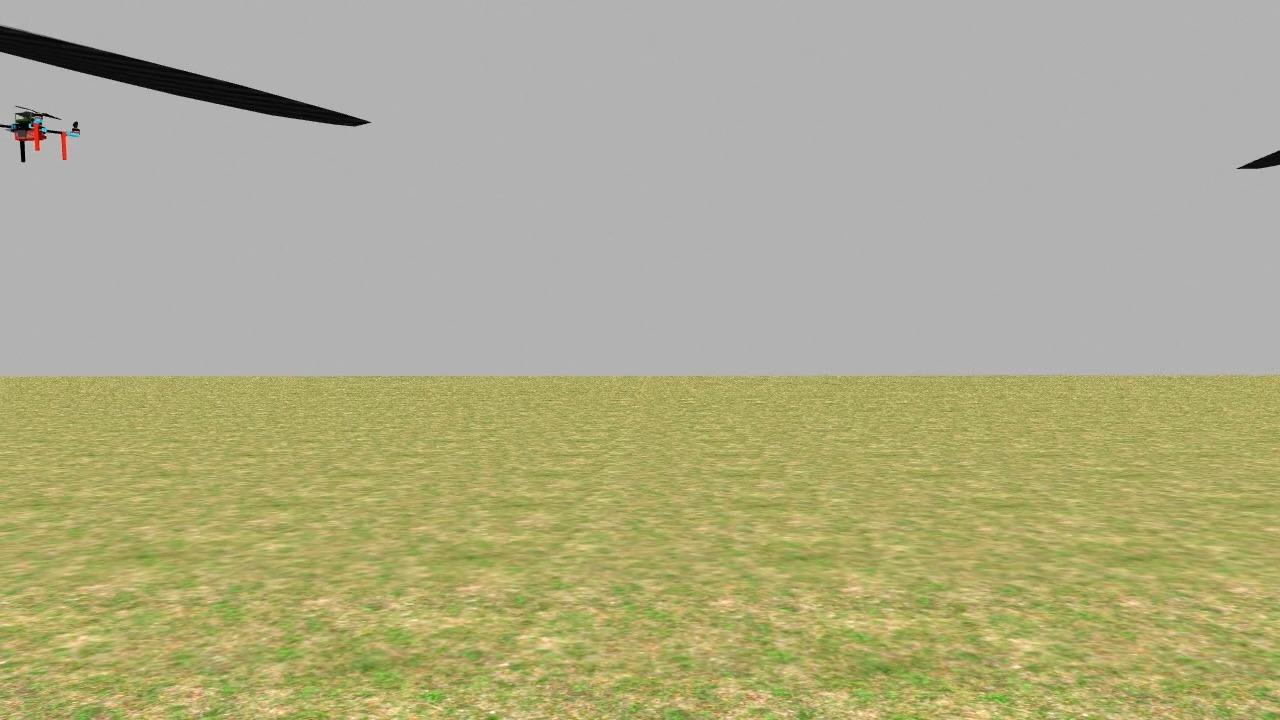UAV: (0, 101, 86, 174)
